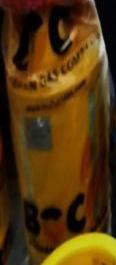cylinder: (1, 0, 116, 265)
